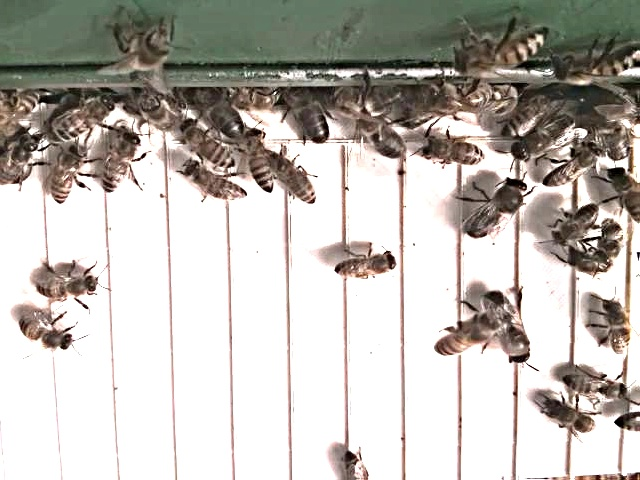Drone: (462, 177, 531, 243), (483, 289, 535, 369), (286, 84, 334, 149), (354, 110, 410, 164)
Worker: (179, 159, 250, 205), (100, 127, 145, 196), (330, 245, 403, 285), (31, 265, 104, 305), (16, 309, 78, 356), (177, 120, 233, 172), (432, 315, 500, 357), (542, 145, 602, 192), (274, 152, 320, 209), (49, 144, 89, 209), (562, 366, 631, 402), (242, 126, 278, 195), (596, 297, 635, 360), (541, 397, 599, 439), (549, 201, 603, 244), (421, 136, 487, 170)
